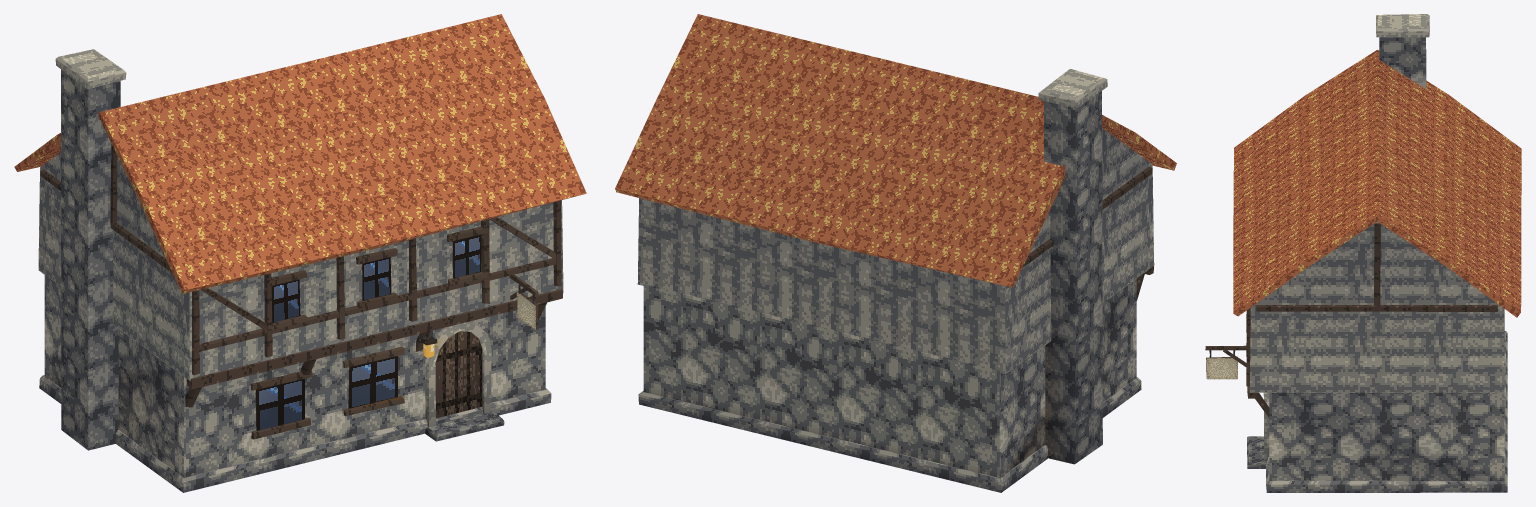
File: vlg.tavern.glb
3 views of the same model, side by side, from view 1: azimuth 30°, elevation 25°; view 2: azimuth 150°, elevation 25°; view 3: azimuth 270°, elevation 25° (orthographic). The views are drawn at different scales.
Parts seen in each view (by area): view 1: kit_roof, kit_walls, kit_stonework, kit_fittings, kit_frame; view 2: kit_walls, kit_roof, kit_stonework, kit_frame; view 3: kit_walls, kit_roof, kit_stonework, kit_frame, kit_fittings.
Part boxes in pixels (box(x1,y1,x2,y2)): kit_roof: box(14, 14, 586, 293); kit_walls: box(38, 152, 563, 477); kit_stonework: box(39, 49, 551, 492); kit_fittings: box(250, 226, 538, 441); kit_frame: box(40, 144, 563, 407); kit_walls: box(637, 128, 1154, 477); kit_roof: box(615, 14, 1176, 287); kit_stonework: box(638, 68, 1141, 492); kit_frame: box(1022, 166, 1154, 300); kit_walls: box(1249, 222, 1504, 481); kit_roof: box(1233, 50, 1521, 317); kit_stonework: box(1266, 14, 1507, 492); kit_frame: box(1246, 223, 1497, 417); kit_fittings: box(1205, 314, 1269, 468).
Bounding box in the file's own units: 10.35 × 8.87 × 8.06.
Materials: 11 (11 with a texture image).
